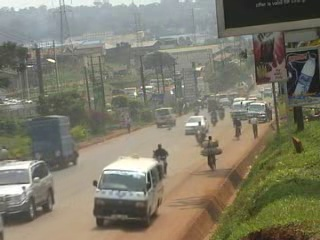Car: (0, 157, 57, 223), (182, 113, 209, 135), (206, 98, 223, 113), (219, 95, 232, 108)
Motorcycle: (152, 151, 169, 175), (194, 128, 206, 147), (210, 114, 218, 128), (217, 110, 225, 120)
